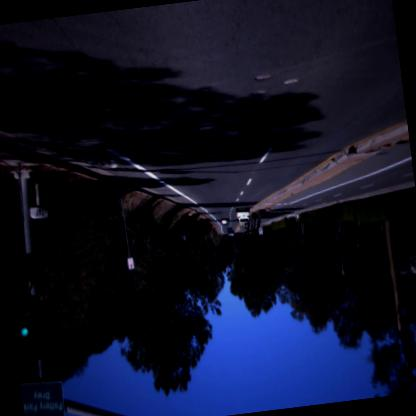trafficlight: (13, 316, 44, 386)
